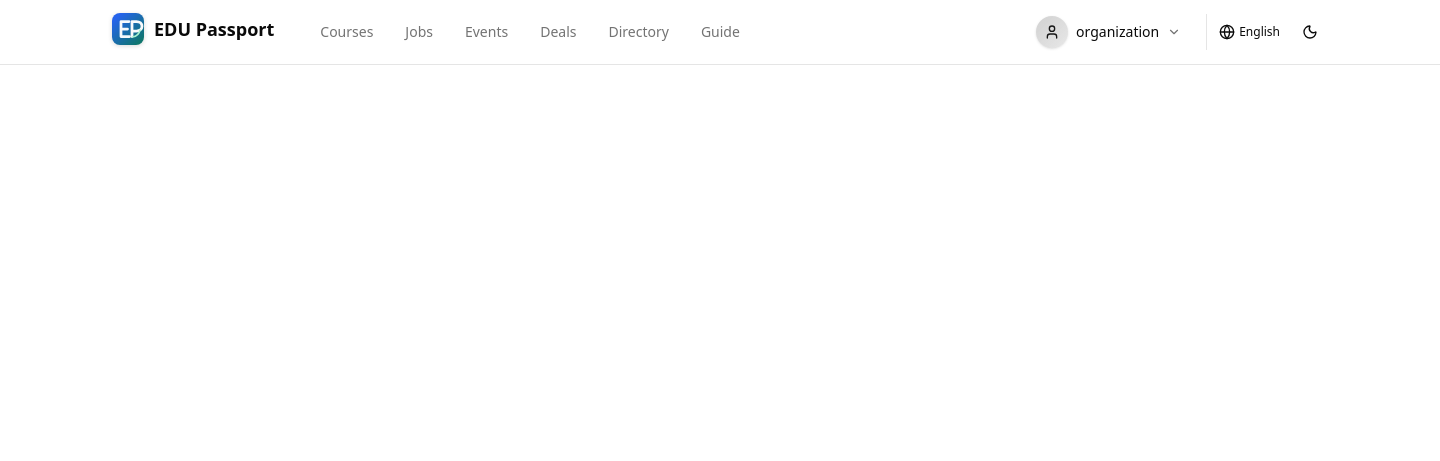
Test: Header account type navigation › shows organization workflow links only for organization accounts
Click the button with aria-label "User menu" at (1109, 32), box [1023,9,1194,55]
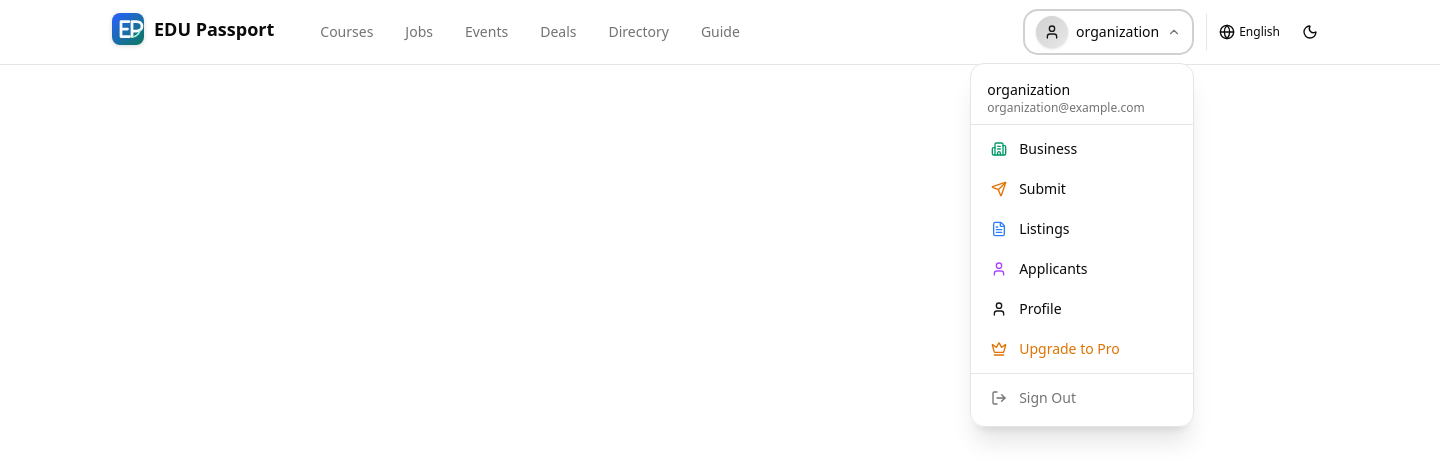
Result: the link "Business" is shown at [991,139,1077,158]
Result: the link "Submit" is shown at [991,179,1066,198]
